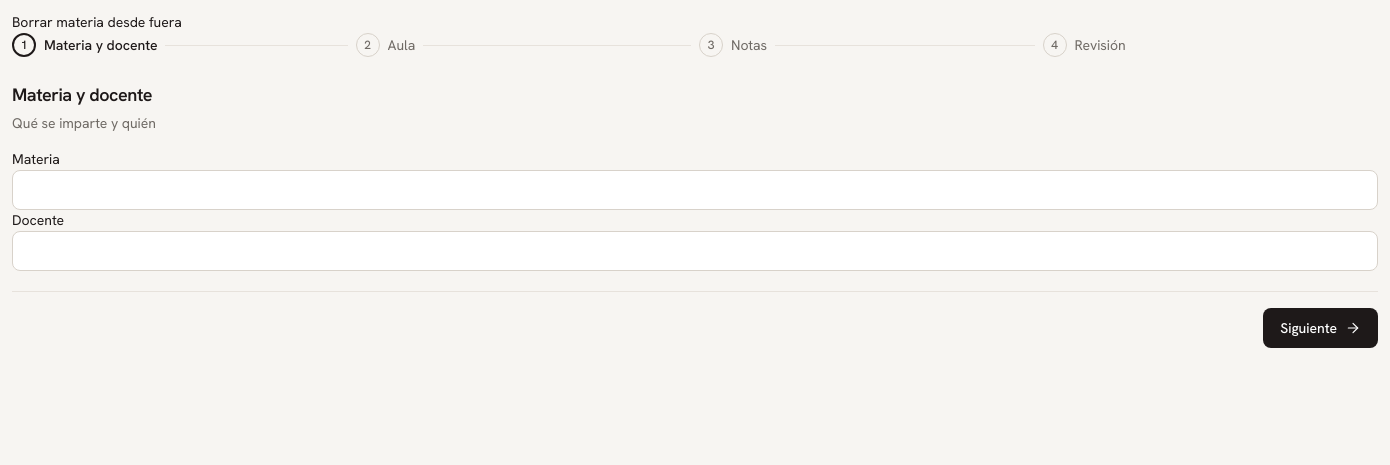
Test: Asistente · navegación y validación por paso › un paso opcional ofrece «Omitir por ahora» sin validar y queda como omitido
Type "Álgebra" into the field labelled "Materia". click: [695, 190]
box: [12,170,1378,210]
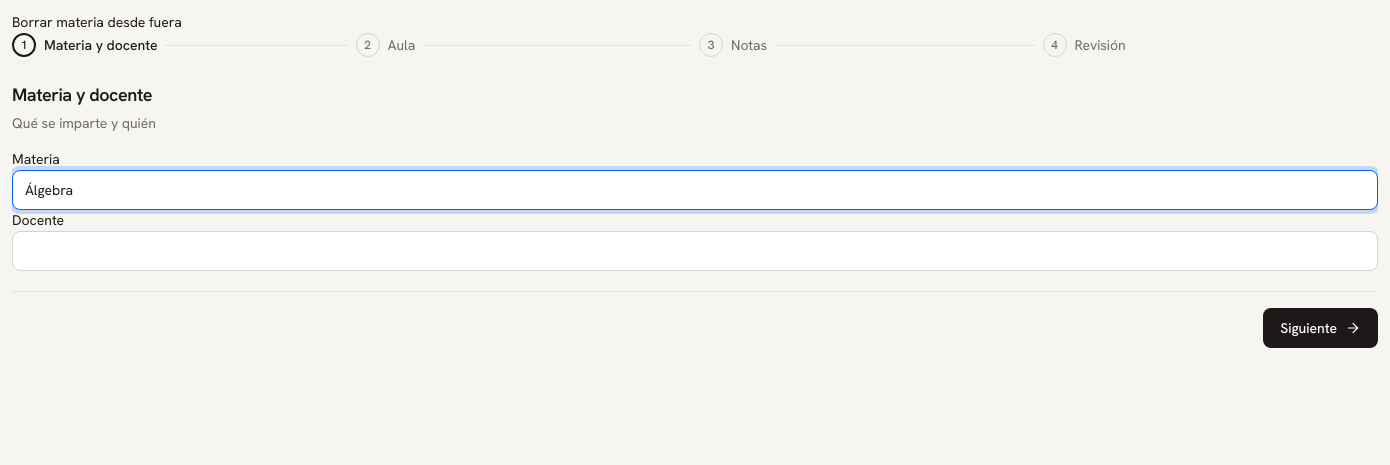
Type "Ana" into the field labelled "Docente". click: [695, 251]
box: [12,231,1378,271]
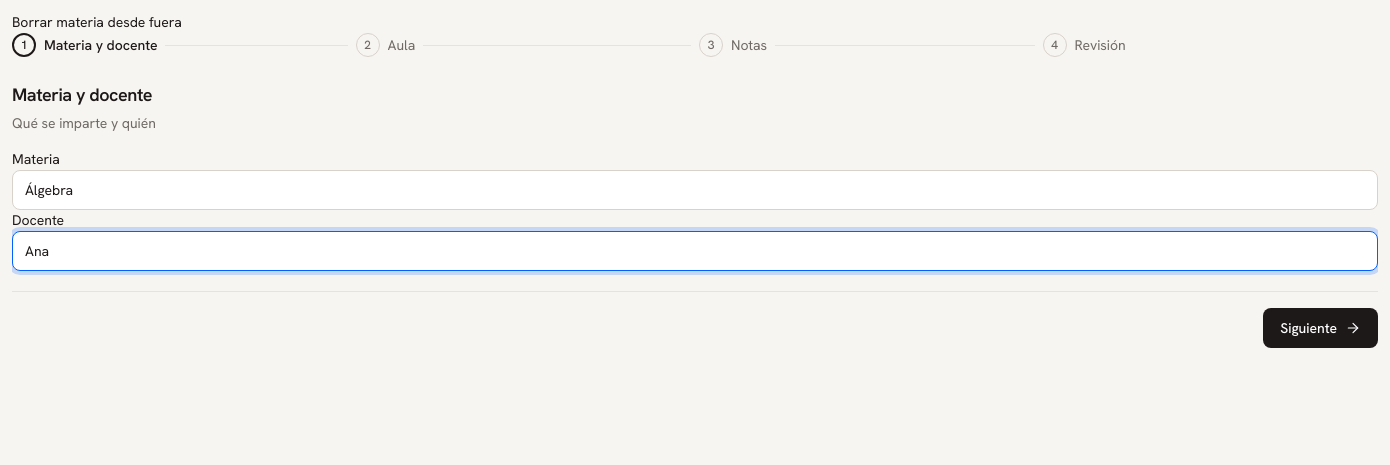
Click the button "Siguiente". click: [1321, 328]
box: [1263,308,1378,348]
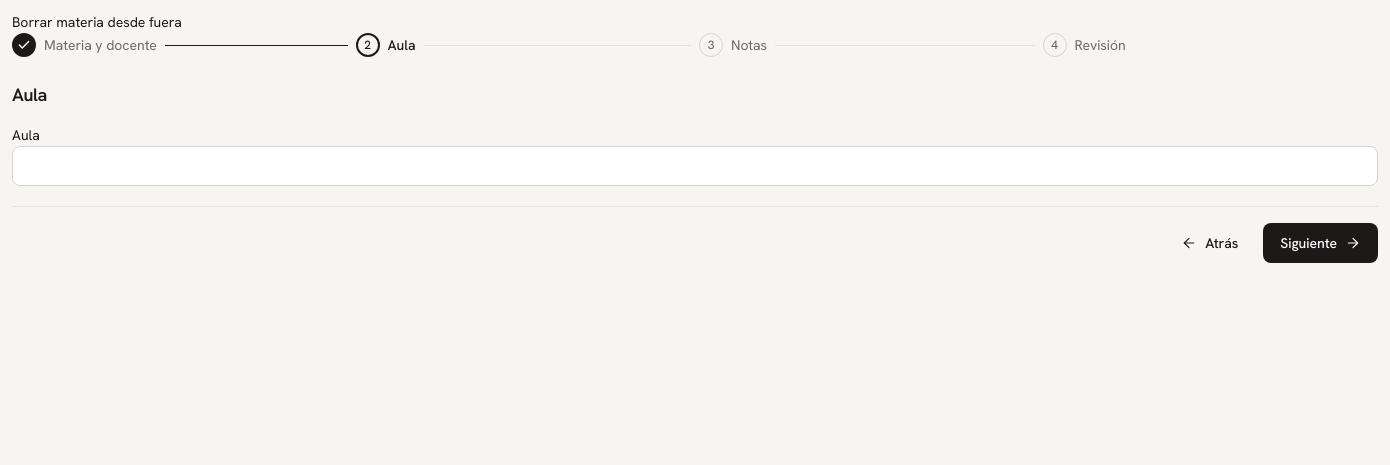
Type "A-12" into the field labelled "Aula". click: [695, 166]
box: [12,146,1378,186]
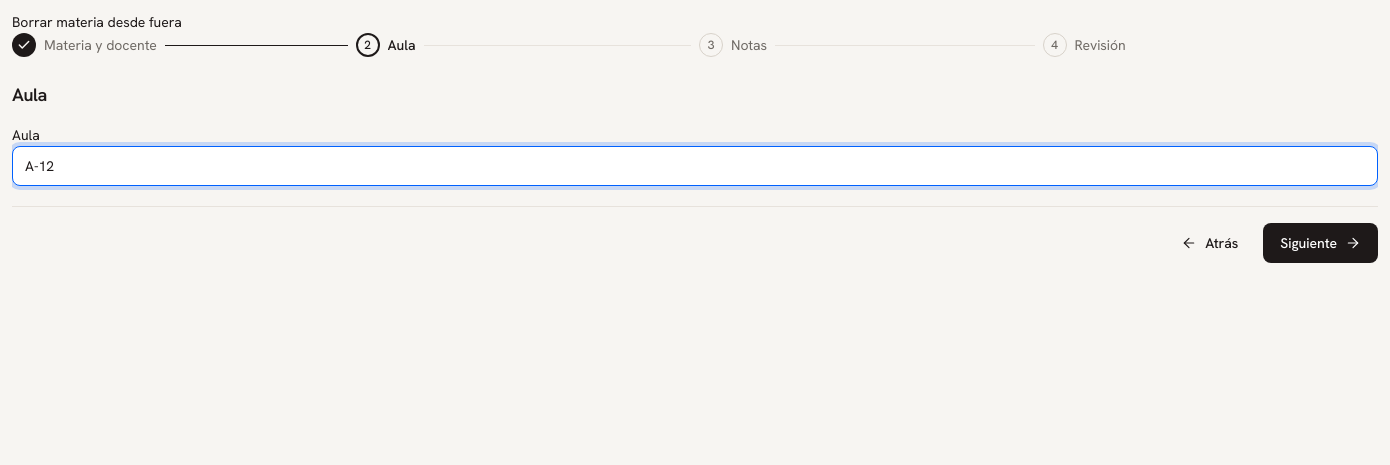
Click the button "Siguiente". click: [1321, 243]
box: [1263,223,1378,263]
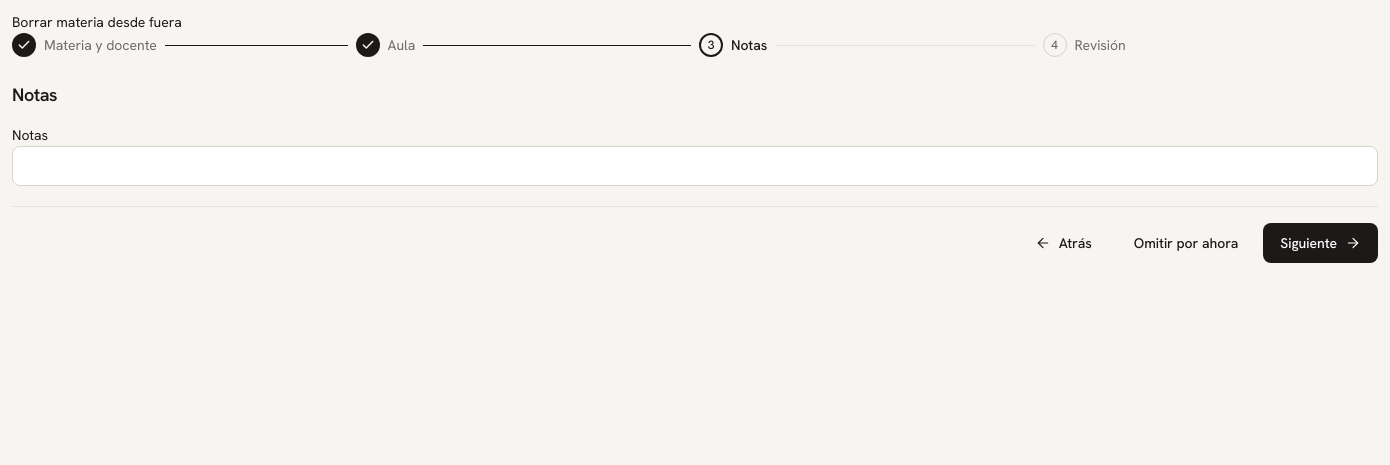
Result: the heading "Notas" is shown at [12,83,57,106]
Click the button "Omitir por ahora". click: [1186, 243]
box: [1117,223,1255,263]
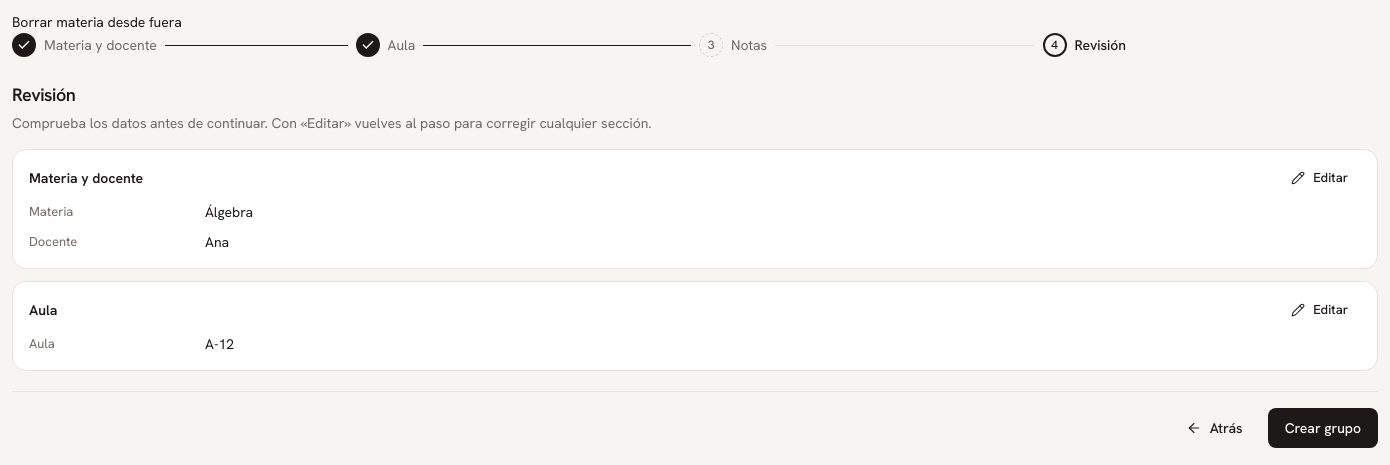
Result: the heading "Revisión" is shown at [12,83,76,106]
